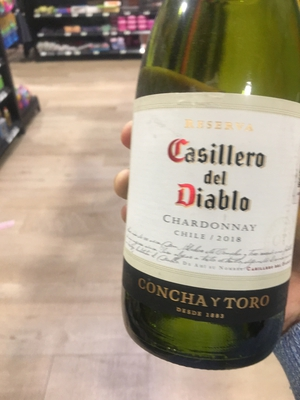casillero del diablo chardonnay: (115, 32, 300, 361)
